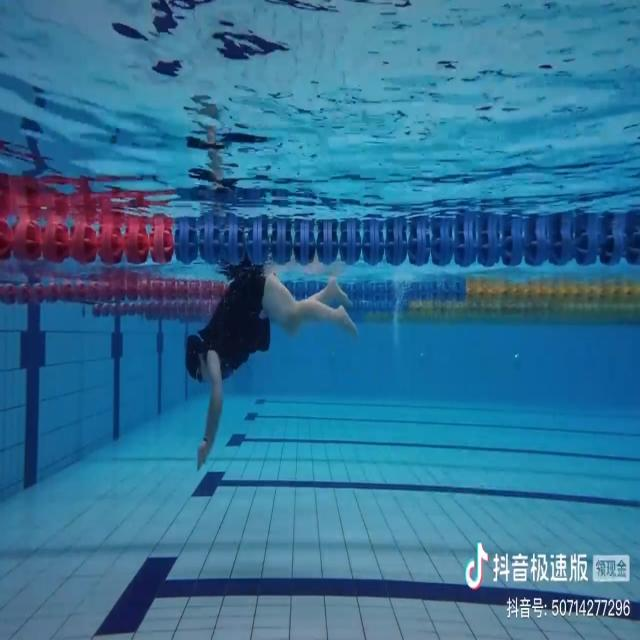Swimming: (186, 263, 358, 472)
